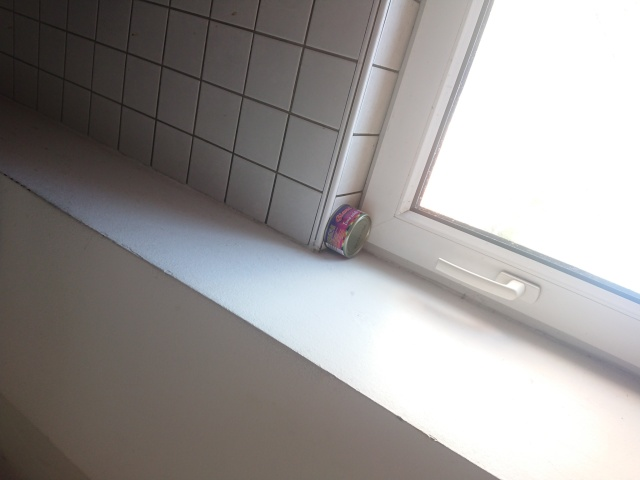Giana Tuna Salad Mexico 185g: (322, 202, 373, 260)
